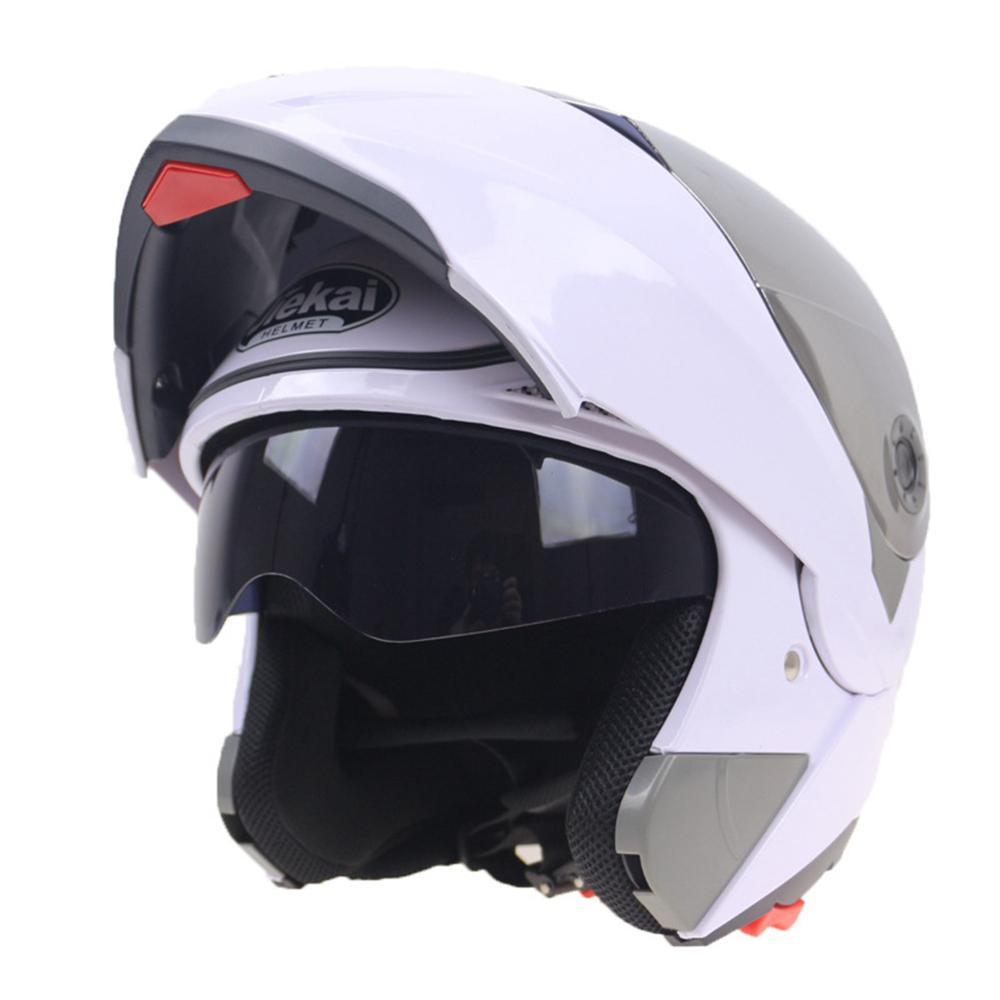with_helmet: (89, 52, 949, 953)
